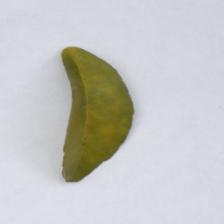greening: (51, 42, 134, 144)
